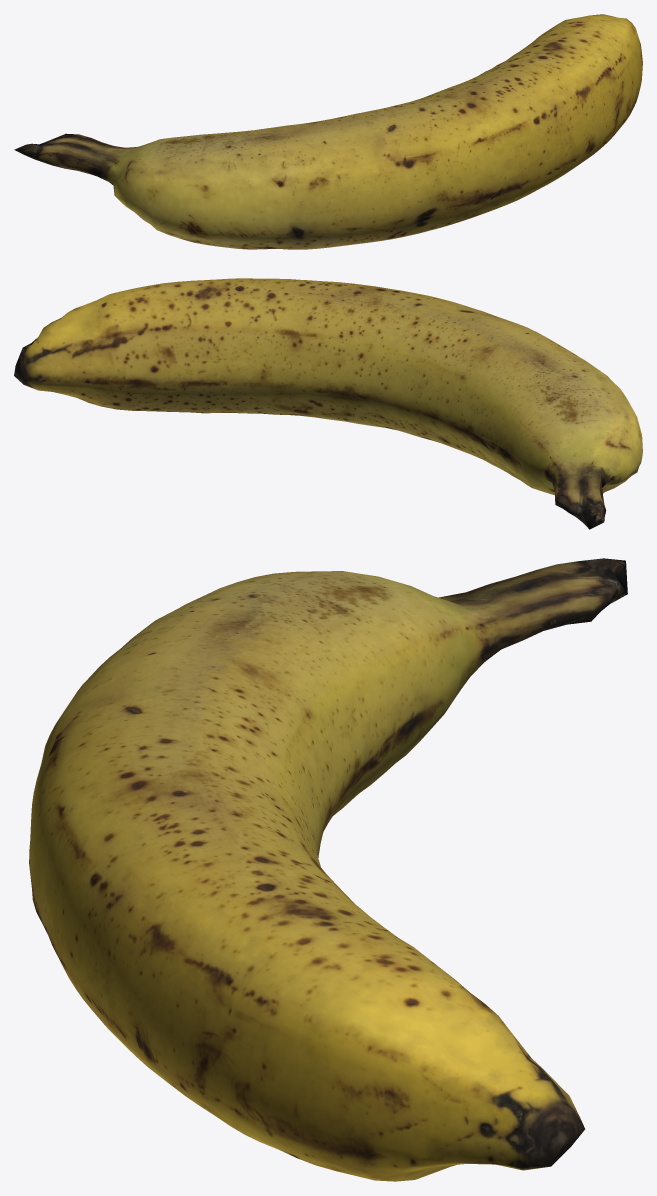
The picture shows the model from 3 angles, top to bottom: view 1: azimuth 30°, elevation 25°; view 2: azimuth 150°, elevation 25°; view 3: azimuth 270°, elevation 25°; orthographic projection. The views are drawn at different scales.
Bounding box in the file's own units: 1.38 × 0.2603 × 0.61.
Materials: 1 (1 with a texture image).
